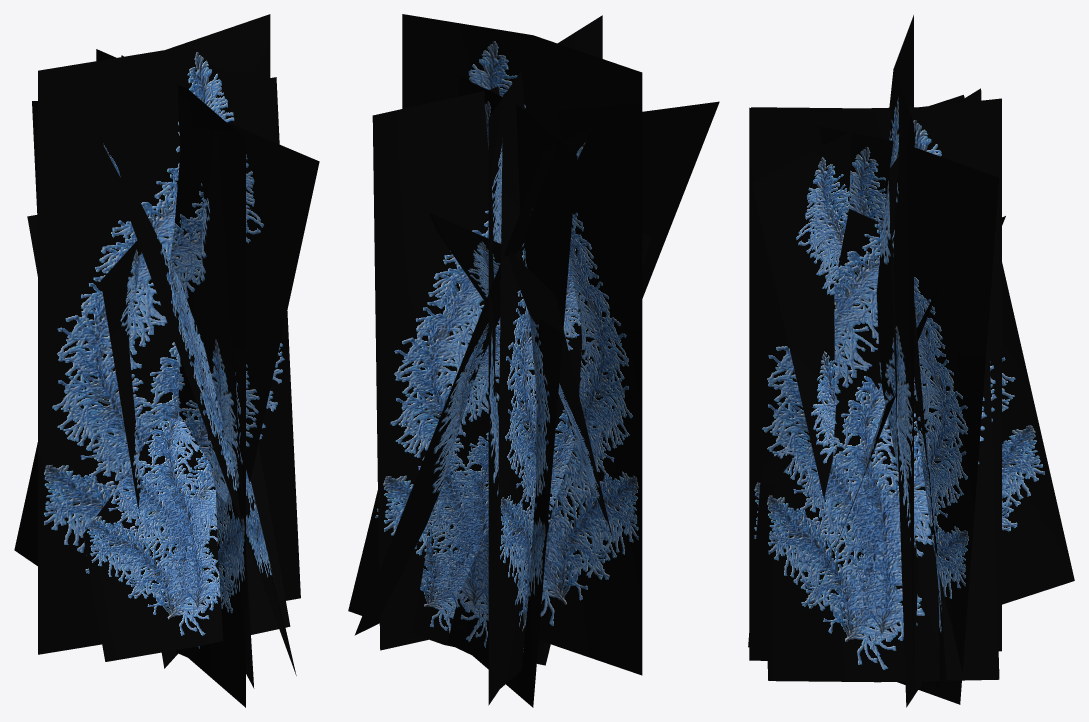
File: vege_magique2_1.FBX
3 views of the same model, side by side, from view 1: azimuth 30°, elevation 25°; view 2: azimuth 150°, elevation 25°; view 3: azimuth 270°, elevation 25° (orthographic). The views are drawn at different scales.
Parts seen in each view (by area): view 1: Plane455; view 2: Plane455; view 3: Plane455.
Boxes of the visible parts, x1,y1,x2,y2 form: Plane455: [14, 14, 319, 707]; Plane455: [348, 14, 719, 707]; Plane455: [748, 15, 1074, 707].
Bounding box in the file's own units: 153 × 334 × 166.
